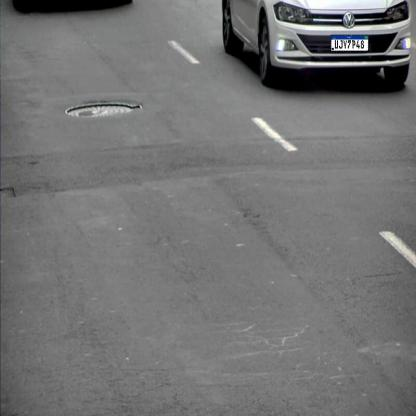PlacaM: (330, 35, 368, 51)
